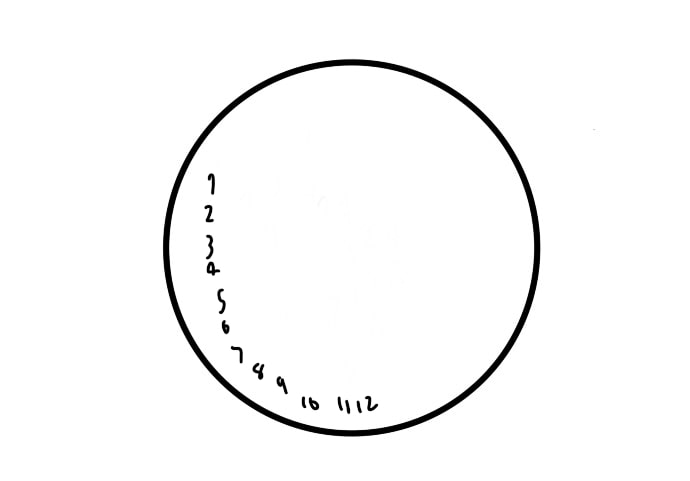eight: (250, 360, 268, 382)
eleven: (334, 393, 353, 418)
five: (215, 283, 229, 314)
four: (203, 259, 220, 281)
nine: (275, 373, 290, 396)
one: (204, 170, 220, 197)
seven: (228, 341, 245, 364)
six: (219, 316, 232, 337)
ten: (299, 391, 320, 412)
three: (201, 230, 216, 261)
twelve: (353, 390, 381, 418)
two: (202, 200, 216, 224)
